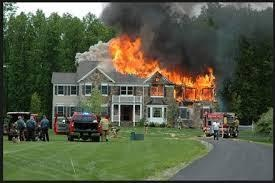fire: (105, 31, 218, 102)
